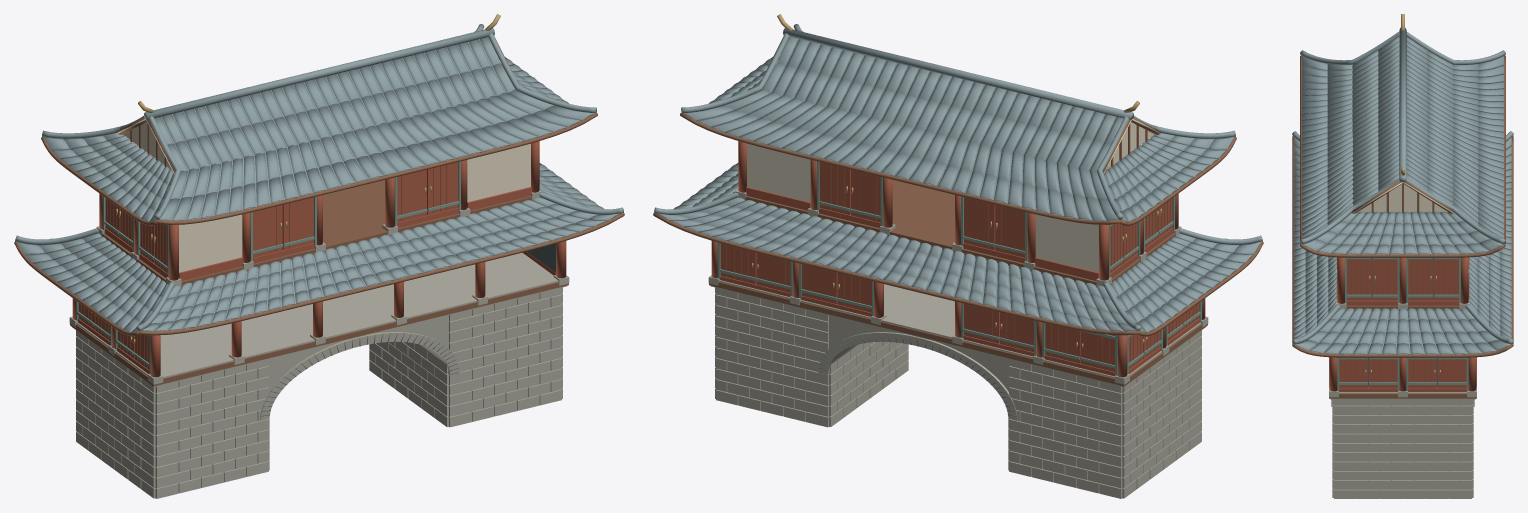
File: Gate_LOD1.fbx
3 renders of one model, left to right at view 1: azimuth 30°, elevation 25°; view 2: azimuth 150°, elevation 25°; view 3: azimuth 270°, elevation 25°, orthographic. The views are drawn at different scales.
Visible parts, largest first — view 1: Gate_Detail1_Roof, Gate_Detail1_Stone, Gate_Detail1_Vermilion, Gate_Detail1_Timber, Gate_Detail1_Plaster, Gate_Detail1_Jade, Gate_Detail1_Recess; view 2: Gate_Detail1_Roof, Gate_Detail1_Stone, Gate_Detail1_Vermilion, Gate_Detail1_Timber, Gate_Detail1_Plaster, Gate_Detail1_Jade; view 3: Gate_Detail1_Roof, Gate_Detail1_Stone, Gate_Detail1_Vermilion, Gate_Detail1_Timber, Gate_Detail1_Jade, Gate_Detail1_Plaster.
Part boxes in pixels (bbox=[...]): Gate_Detail1_Roof: bbox=[15, 24, 623, 332]; Gate_Detail1_Stone: bbox=[69, 190, 569, 498]; Gate_Detail1_Vermilion: bbox=[72, 141, 566, 377]; Gate_Detail1_Timber: bbox=[14, 38, 624, 386]; Gate_Detail1_Plaster: bbox=[123, 55, 530, 272]; Gate_Detail1_Jade: bbox=[76, 161, 460, 374]; Gate_Detail1_Recess: bbox=[261, 243, 556, 416]; Gate_Detail1_Roof: bbox=[654, 24, 1262, 332]; Gate_Detail1_Stone: bbox=[708, 190, 1208, 498]; Gate_Detail1_Vermilion: bbox=[711, 141, 1205, 377]; Gate_Detail1_Timber: bbox=[653, 38, 1263, 386]; Gate_Detail1_Plaster: bbox=[747, 55, 1154, 272]; Gate_Detail1_Jade: bbox=[717, 161, 1201, 375]; Gate_Detail1_Roof: bbox=[1292, 27, 1513, 354]; Gate_Detail1_Stone: bbox=[1329, 269, 1476, 498]; Gate_Detail1_Vermilion: bbox=[1329, 257, 1476, 391]; Gate_Detail1_Timber: bbox=[1292, 55, 1513, 398]; Gate_Detail1_Jade: bbox=[1337, 257, 1468, 390]; Gate_Detail1_Plaster: bbox=[1358, 184, 1447, 212].
Size of the model in its own units: 32.44 by 23.07 by 14.47.
